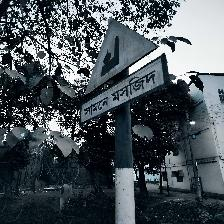Mosque in front: (78, 18, 169, 125)
